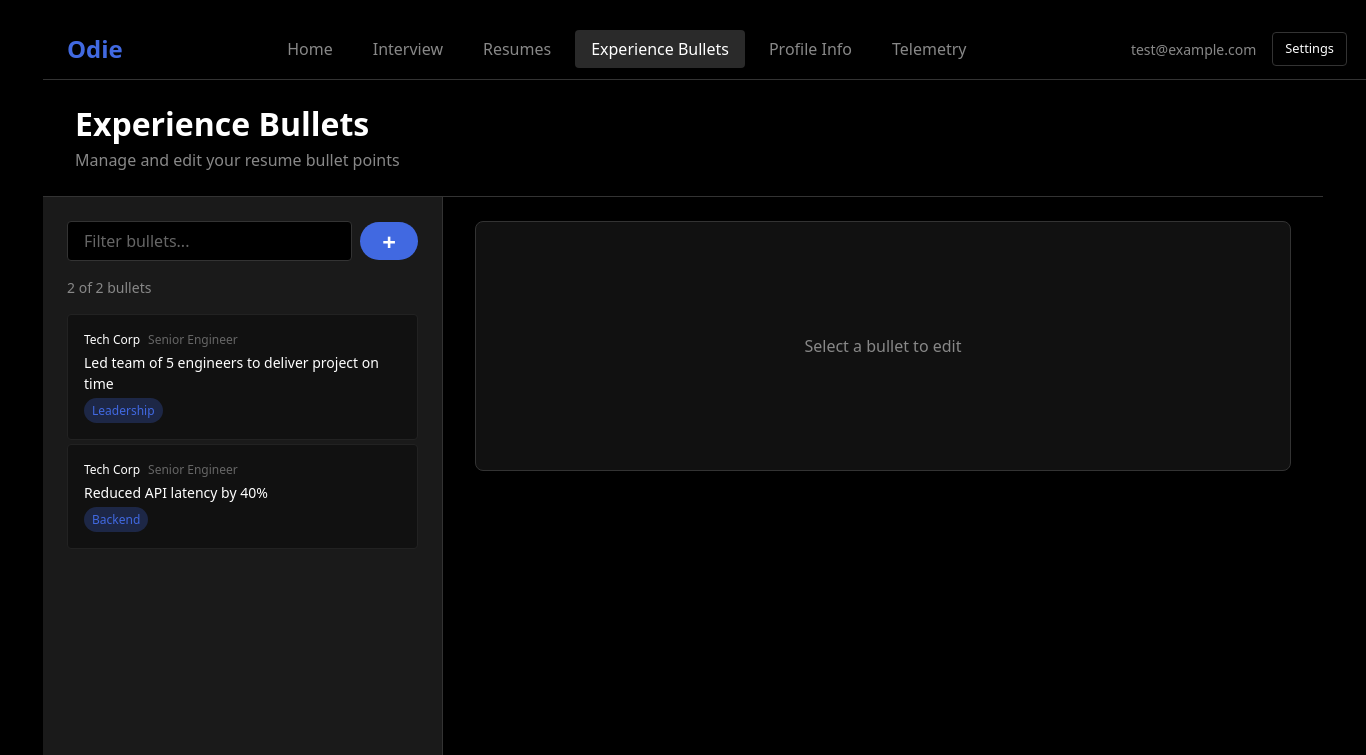
Scenario: BulletsPage › should handle cancel edit
The image size is (1366, 755).
Select a bullet first
Click the text "Led team of 5 engineers to deliver project on time" at (242, 373), box [84,352,401,394]
(page scrolled)
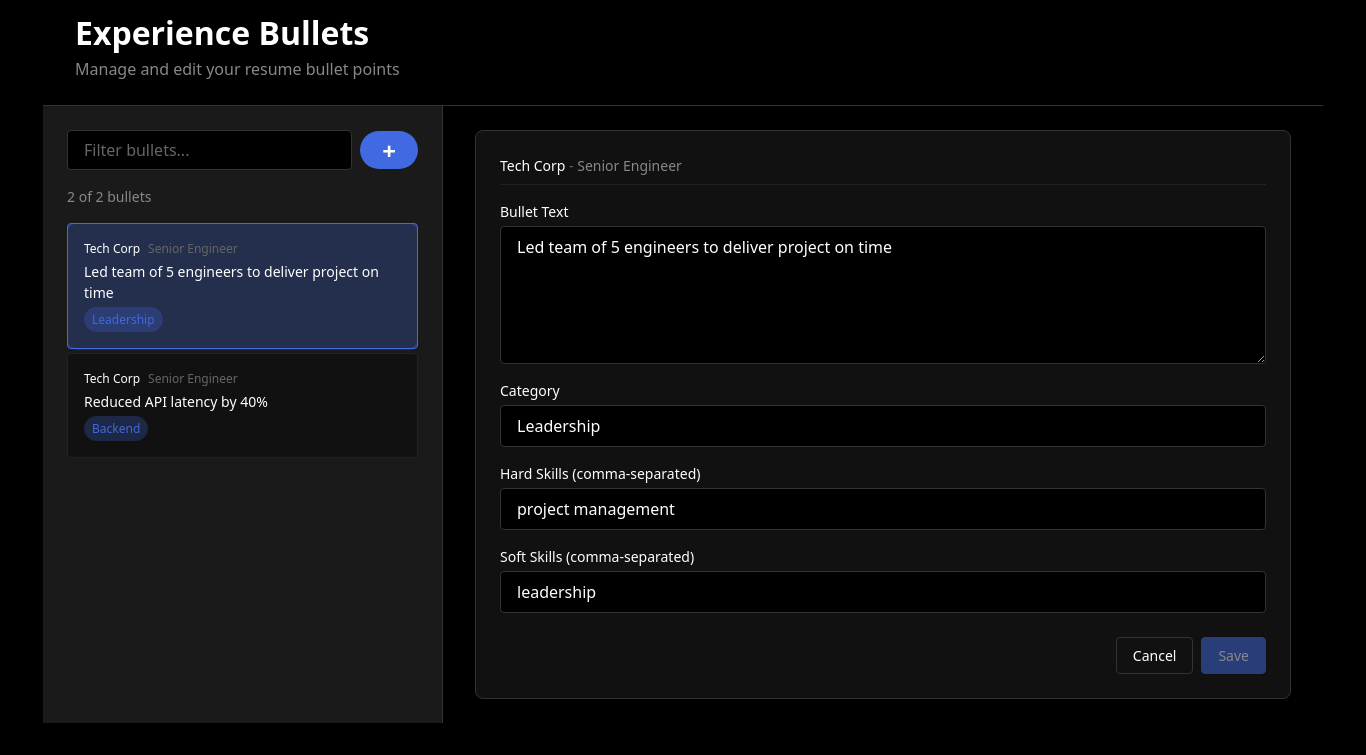
Result: the text box showing "Led team of 5 engineers to deliver project on time" is shown at [500,226,1266,364]
Find and click cancel button (uses bullet-editor-cancel testid)
Click the button with test id "bullet-editor-cancel" at (1155, 656), box [1116,637,1193,674]
(page scrolled)
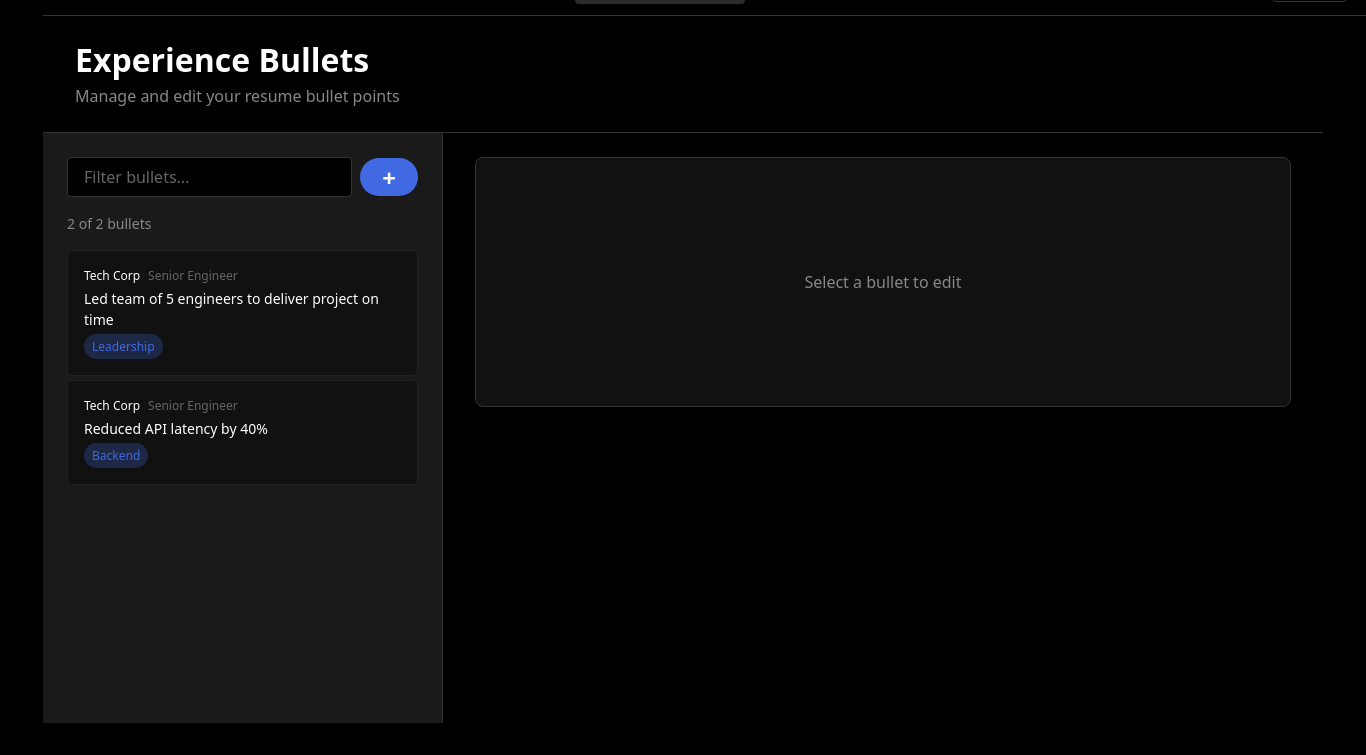
Result: the text "Select a bullet to edit" is shown at [804,270,962,294]
